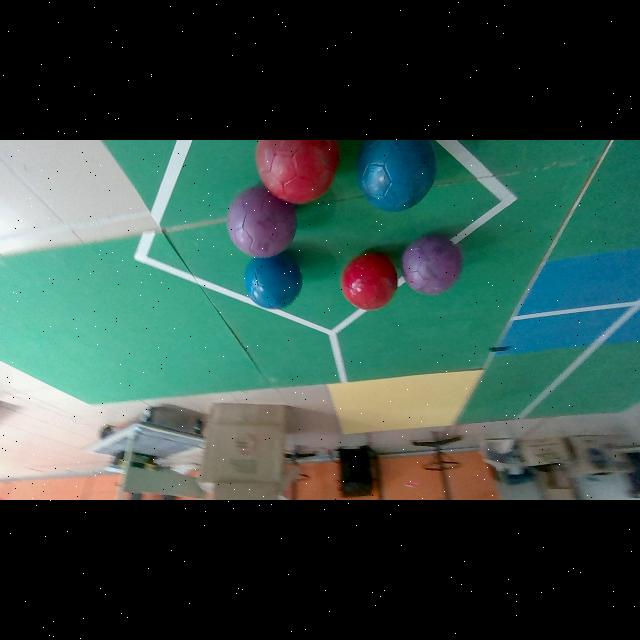B: (357, 140, 437, 211), (244, 253, 302, 308)
P: (228, 187, 297, 258), (403, 237, 461, 295)
R: (257, 140, 339, 203), (341, 253, 398, 311), (341, 253, 398, 309)
